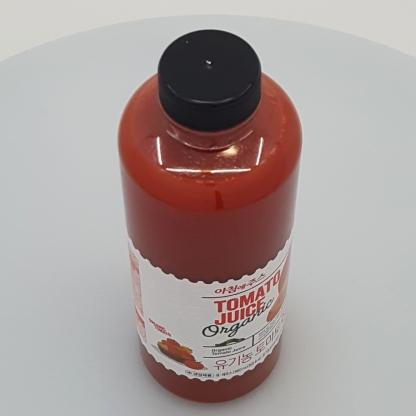-------------------900ML: (117, 28, 302, 403)
